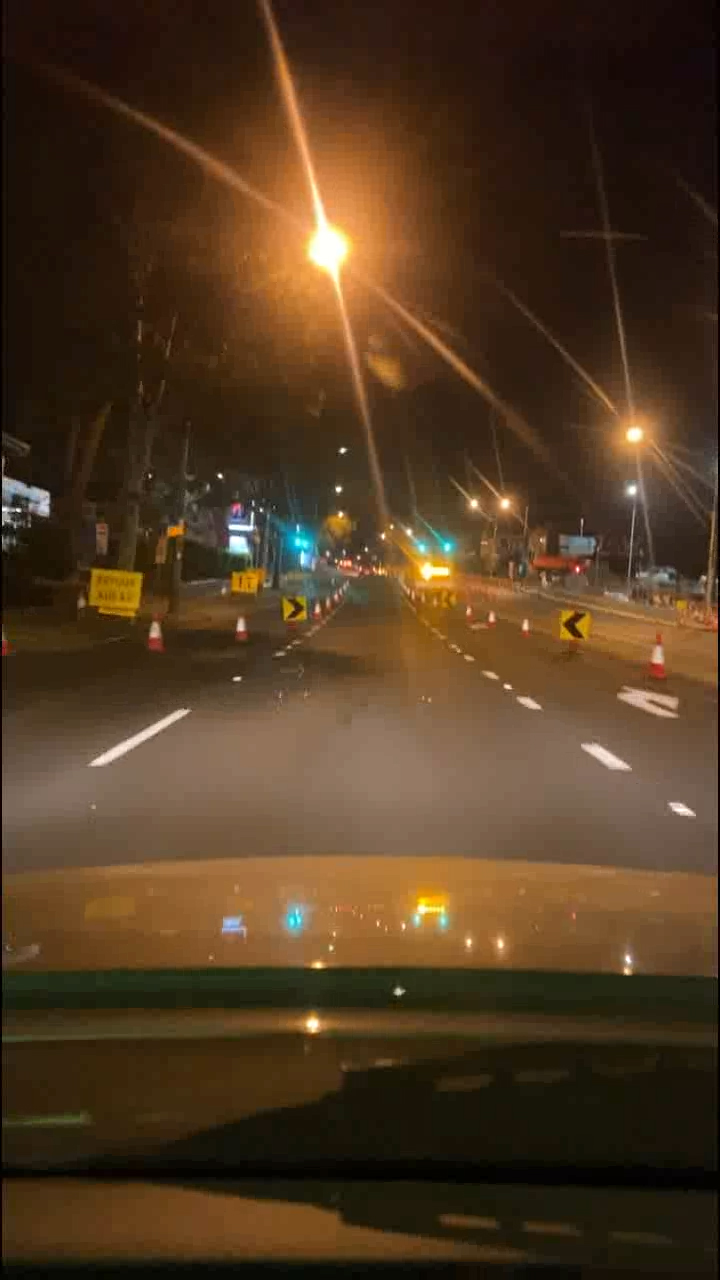road cone: (145, 617, 162, 654), (234, 610, 251, 647), (649, 631, 666, 668), (517, 611, 532, 640), (484, 601, 499, 630), (322, 588, 337, 617)
road works sign board: (87, 571, 133, 611), (283, 600, 306, 623), (561, 612, 584, 635), (231, 575, 256, 592), (441, 588, 452, 604)
truck: (420, 554, 450, 590)
